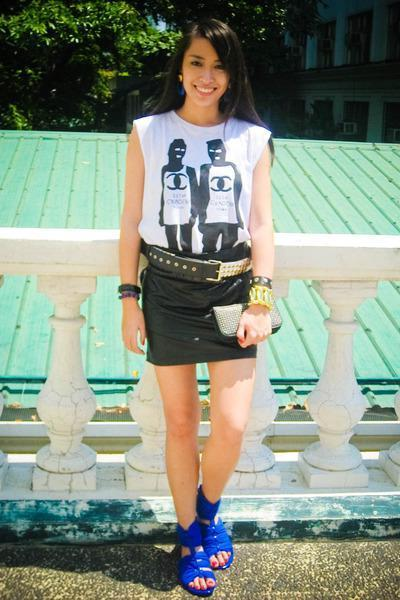short sleeve shirt: (127, 113, 274, 259)
skirt: (134, 256, 267, 368)
